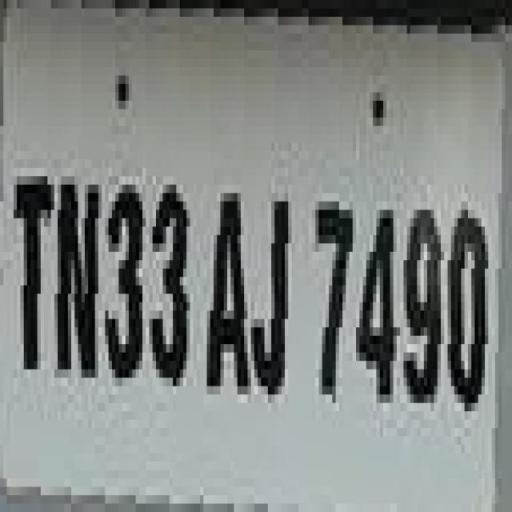number plate: (0, 17, 485, 487)
